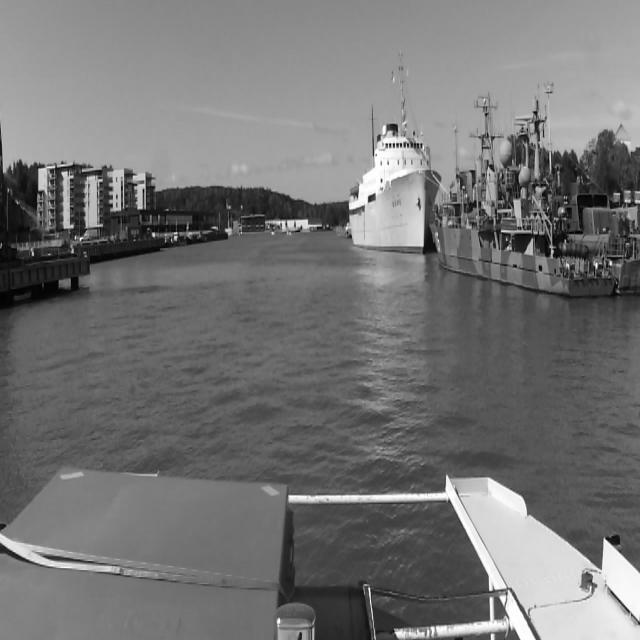ship: (442, 90, 622, 295), (348, 122, 442, 252)
